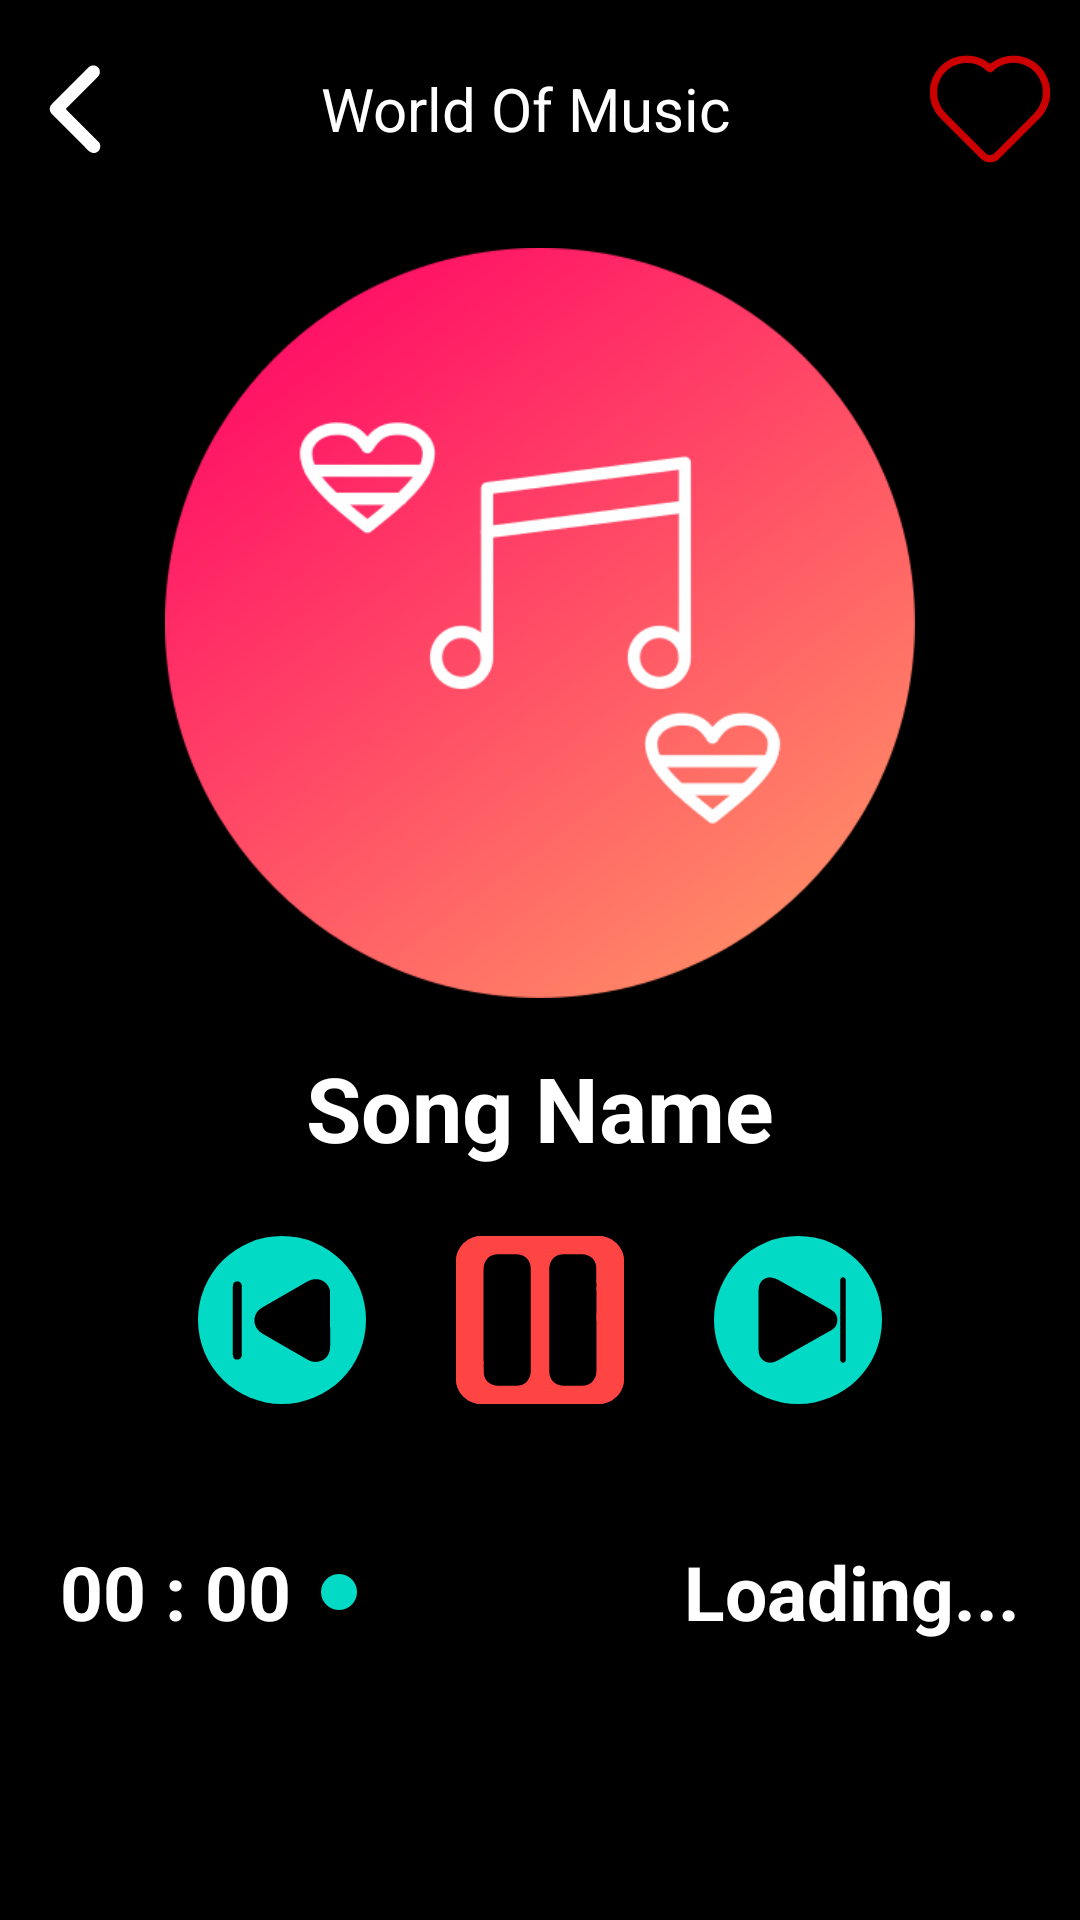

Screen size 1080px×1920px. Icon name, then its center in pixels as (x=x, y=y):
back: (x=75, y=109)
favourite open: (x=990, y=109)
next: (x=798, y=1320)
pause: (x=540, y=1320)
previous: (x=282, y=1320)
